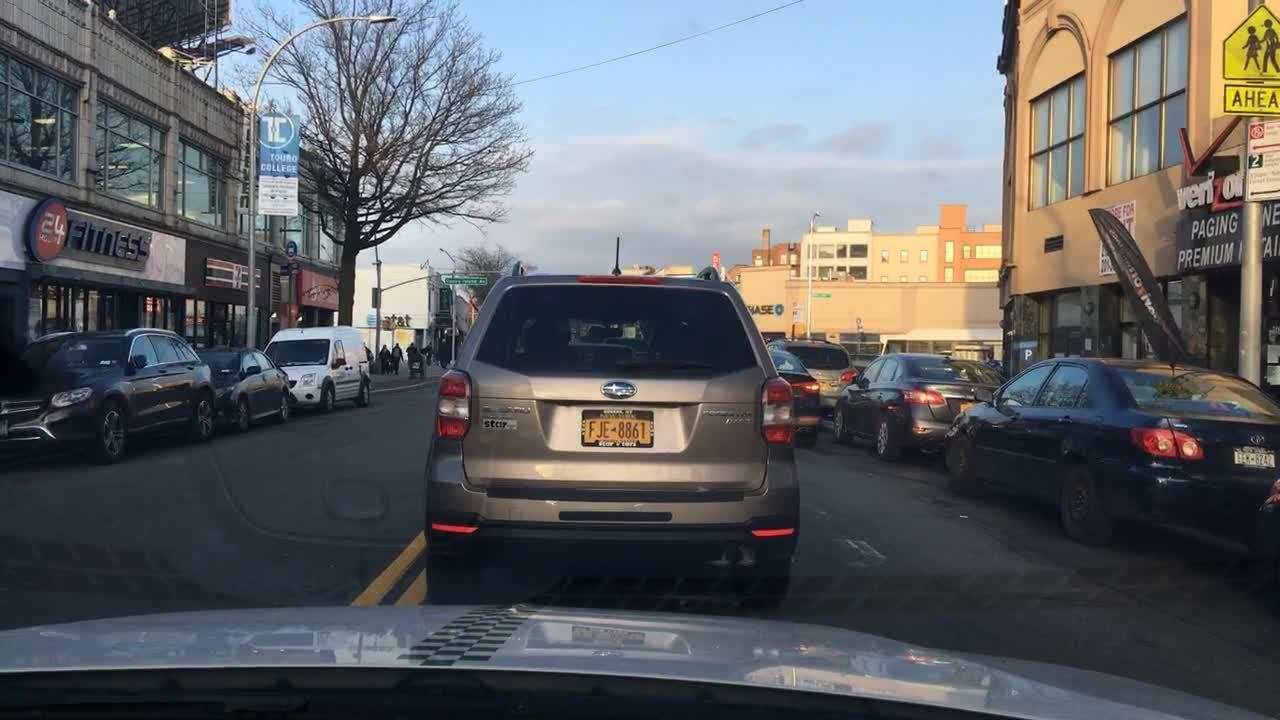Toyota: (1245, 428, 1271, 451)
subaru: (597, 380, 642, 402)
